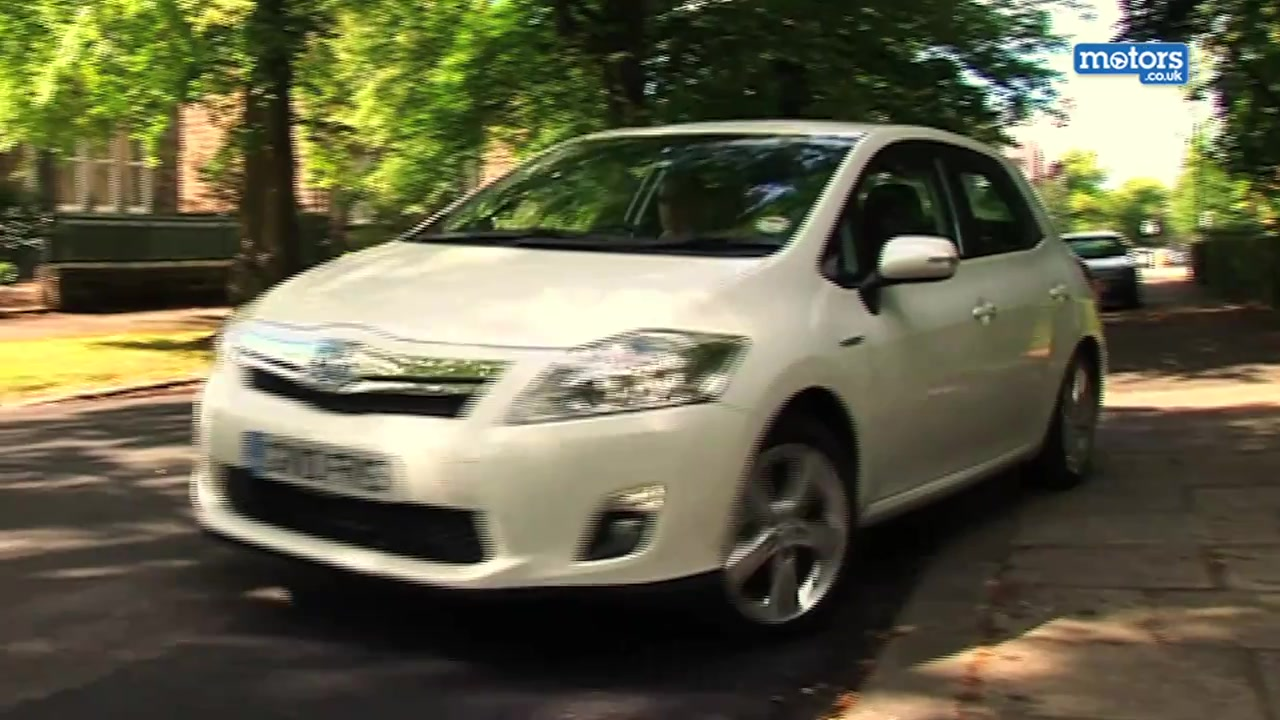car: (188, 117, 1110, 652), (1062, 228, 1148, 317)
